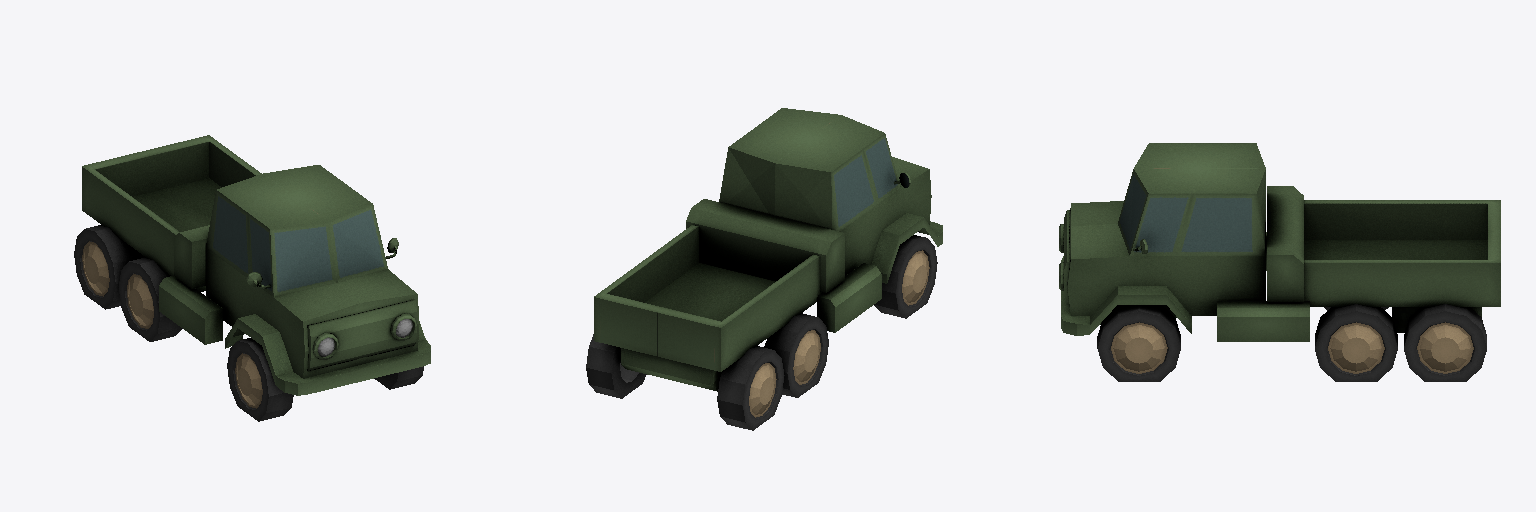
3 views of the same model, side by side, from view 1: azimuth 30°, elevation 25°; view 2: azimuth 150°, elevation 25°; view 3: azimuth 270°, elevation 25° (orthographic).
Parts seen in each view (by area): view 1: GreenTruck_Cube; view 2: GreenTruck_Cube; view 3: GreenTruck_Cube.
Boxes of the visible parts, x1=… form: GreenTruck_Cube: x1=74, y1=135, x2=430, y2=421; GreenTruck_Cube: x1=586, y1=108, x2=942, y2=430; GreenTruck_Cube: x1=1059, y1=143, x2=1500, y2=381.
Bounding box in the file's own units: 2.87 × 2.92 × 6.69.
1 materials, 1 textured.